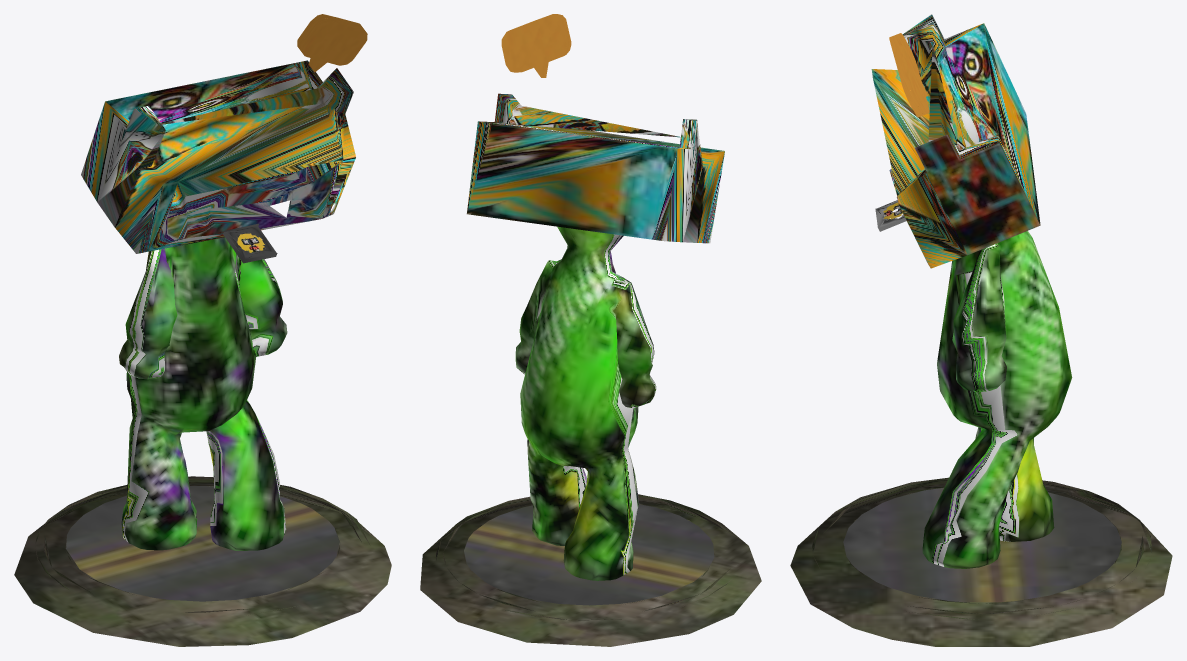
The picture shows the model from 3 angles, left to right: view 1: azimuth 30°, elevation 25°; view 2: azimuth 150°, elevation 25°; view 3: azimuth 270°, elevation 25°; orthographic projection. The views are drawn at different scales.
Size of the model in its own units: 1.42 by 2.38 by 1.44.
9 materials, 6 textured.
